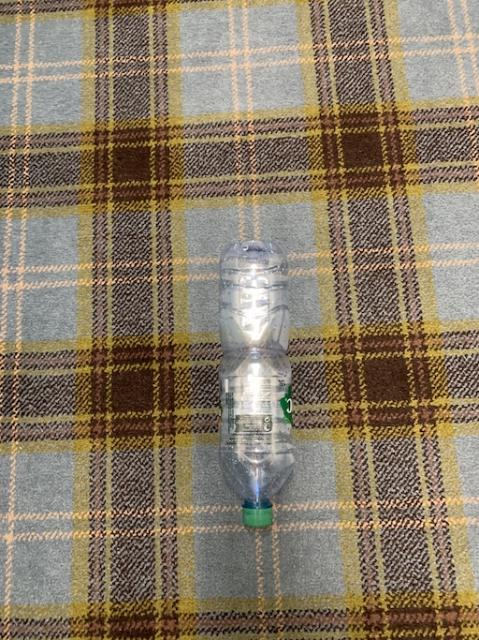plastic: (218, 239, 293, 525)
